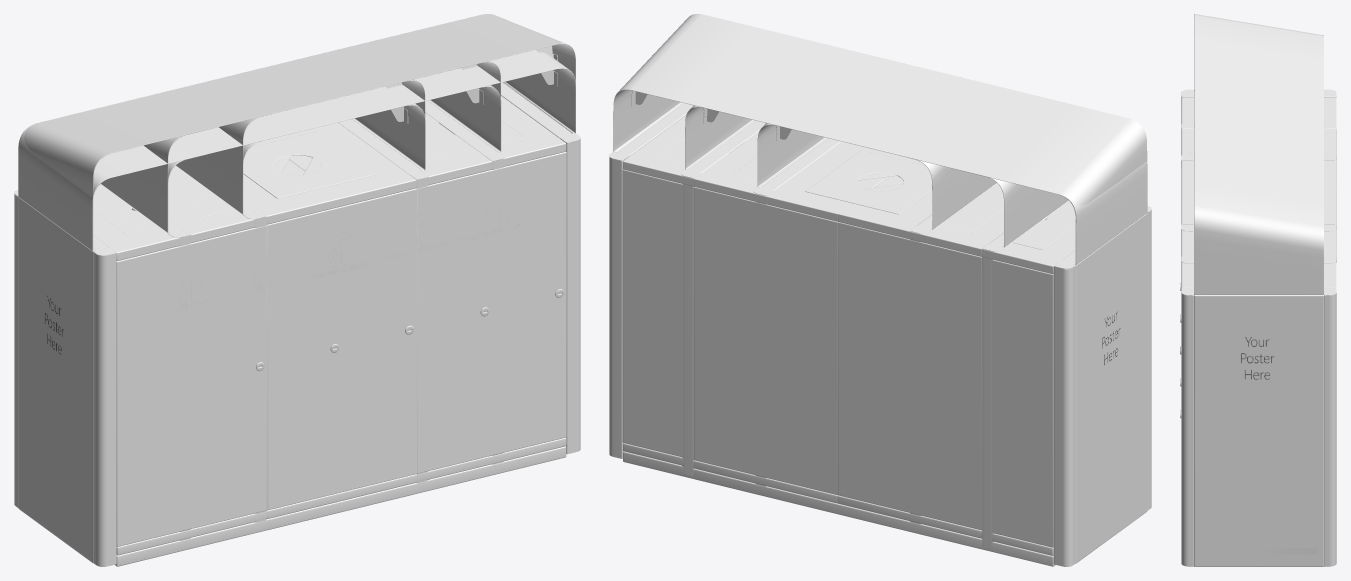
The model's file is umea.glb.
3 renders of one model, left to right at view 1: azimuth 30°, elevation 25°; view 2: azimuth 150°, elevation 25°; view 3: azimuth 270°, elevation 25°, orthographic. The views are drawn at different scales.
Parts seen in each view (by area): view 1: Triple_General, Single_General1, Triple_Hood2, Triple_SidePanel4 (×2), Triple_Hood1, Double_Hood2, Single_Top1_3, Triple_SidePanel2 (×2), Single_Hood2, Double_General, Single_Hood1, Triple_Top1_2 (+7 smaller); view 2: Double_General, Triple_General, Triple_Hood2, Triple_SidePanel4 (×2), Double_Hood2, Triple_Hood1, Triple_SidePanel2 (×2), Single_Top1_3, Single_Hood2, Single_Hood1, Triple_Top1_2, Double_SidePanel4 (+4 smaller); view 3: Triple_SidePanel4 (×2), Triple_Hood2, Triple_General, Double_Hood2, Triple_SidePanel3, Double_General, Single_General1, Triple_SidePanel1.
Part boxes in pixels (box(x1,y1,x2,y2)): Triple_General: box(14, 96, 580, 566); Single_General1: box(243, 131, 430, 529); Triple_Hood2: box(24, 14, 575, 250); Triple_SidePanel4 (×2): box(18, 197, 93, 562); Triple_Hood1: box(18, 49, 575, 251); Double_Hood2: box(101, 45, 501, 232); Single_Top1_3: box(243, 131, 374, 198); Triple_SidePanel2 (×2): box(19, 82, 572, 561); Single_Hood2: box(217, 79, 425, 214); Double_General: box(168, 114, 505, 540); Single_Hood1: box(176, 103, 425, 214); Triple_Top1_2: box(93, 184, 201, 235); Double_General: box(680, 132, 1004, 549); Triple_General: box(609, 115, 1151, 566); Triple_Hood2: box(613, 14, 1147, 264); Triple_SidePanel4 (×2): box(1076, 213, 1147, 563); Double_Hood2: box(685, 50, 1068, 246); Triple_Hood1: box(613, 90, 1147, 264); Triple_SidePanel2 (×2): box(617, 103, 1147, 561); Single_Top1_3: box(805, 150, 931, 214); Single_Hood2: box(757, 65, 955, 229); Single_Hood1: box(757, 124, 996, 229); Triple_Top1_2: box(971, 201, 1075, 249); Double_SidePanel4: box(689, 120, 1003, 246); Triple_SidePanel4 (×2): box(1194, 90, 1323, 566); Triple_Hood2: box(1194, 14, 1323, 294); Triple_General: box(1181, 89, 1336, 566); Double_Hood2: box(1194, 100, 1323, 178); Triple_SidePanel3: box(1194, 295, 1323, 566); Double_General: box(1181, 121, 1336, 263); Single_General1: box(1181, 153, 1336, 236); Triple_SidePanel1: box(1323, 295, 1323, 566).
Size of the model in its own units: 2760 by 2227 by 889.
Materials: 63 (63 with a texture image).
